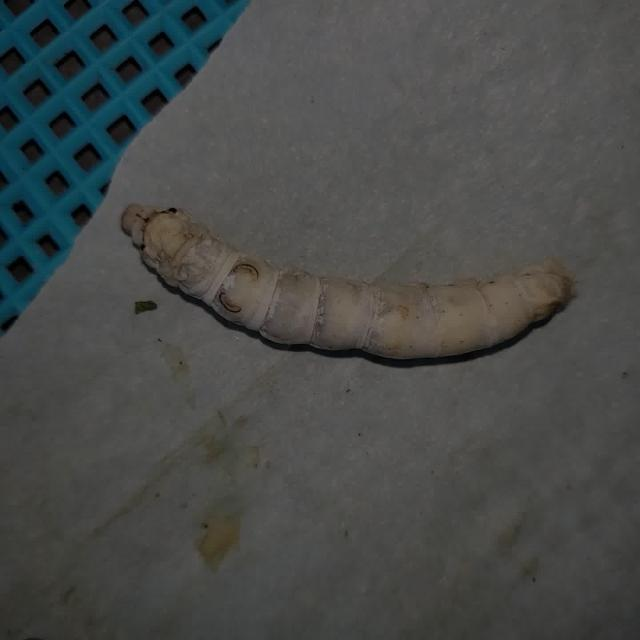Grasserie: (110, 189, 582, 374)
